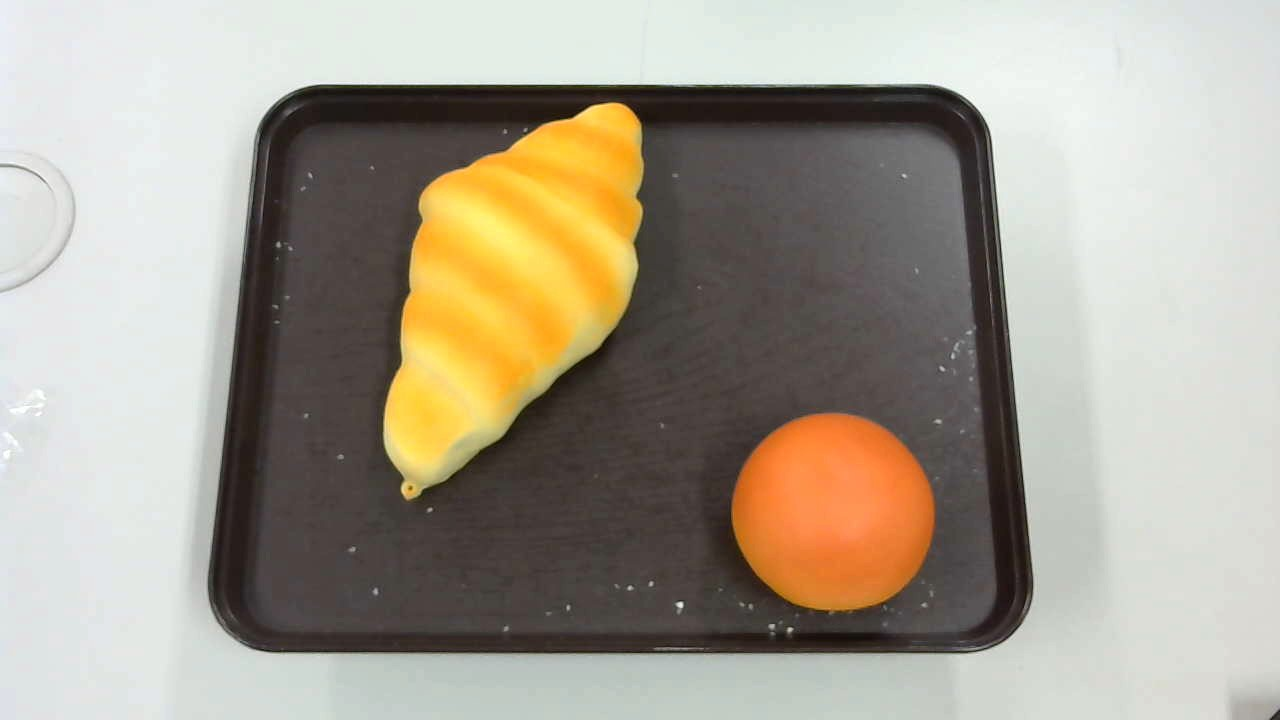bun: (730, 412, 936, 610)
croissant: (382, 102, 645, 500)
